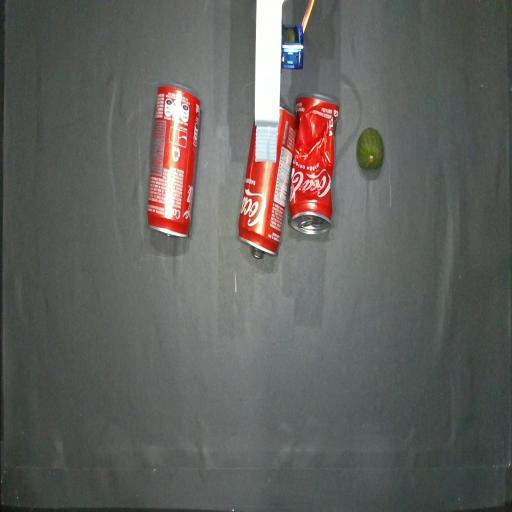higo: (356, 128, 384, 169)
lata: (238, 106, 298, 258), (147, 84, 201, 237)
lata_defectuoso: (289, 93, 339, 234)
